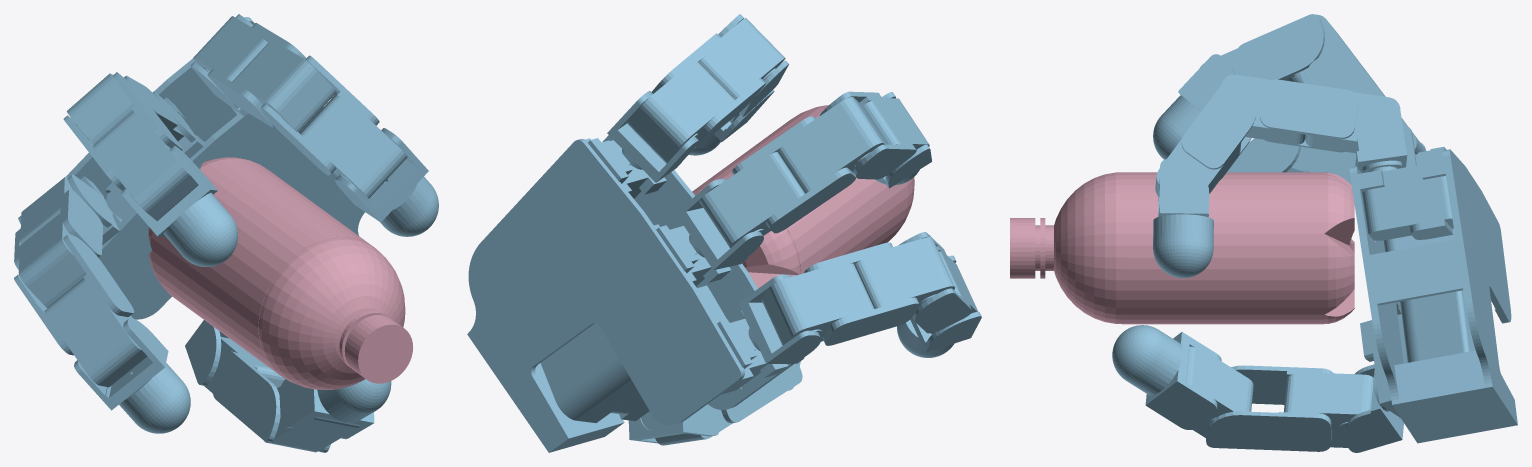
3 renders of one model, left to right at view 1: azimuth 30°, elevation 25°; view 2: azimuth 150°, elevation 25°; view 3: azimuth 270°, elevation 25°, orthographic. The views are drawn at different scales.
Parts seen in each view (by area): view 1: world, water_bottle.stl; view 2: world, water_bottle.stl; view 3: world, water_bottle.stl.
Part boxes in pixels (left/top/right/bottom): world: left=14, top=14, right=438, bottom=452; water_bottle.stl: left=148, top=157, right=413, bottom=389; world: left=467, top=14, right=981, bottom=452; water_bottle.stl: left=692, top=105, right=914, bottom=288; world: left=1112, top=14, right=1517, bottom=452; water_bottle.stl: left=1010, top=172, right=1354, bottom=324.
Size of the model in its own units: 0.1757 by 0.1629 by 0.2012.
